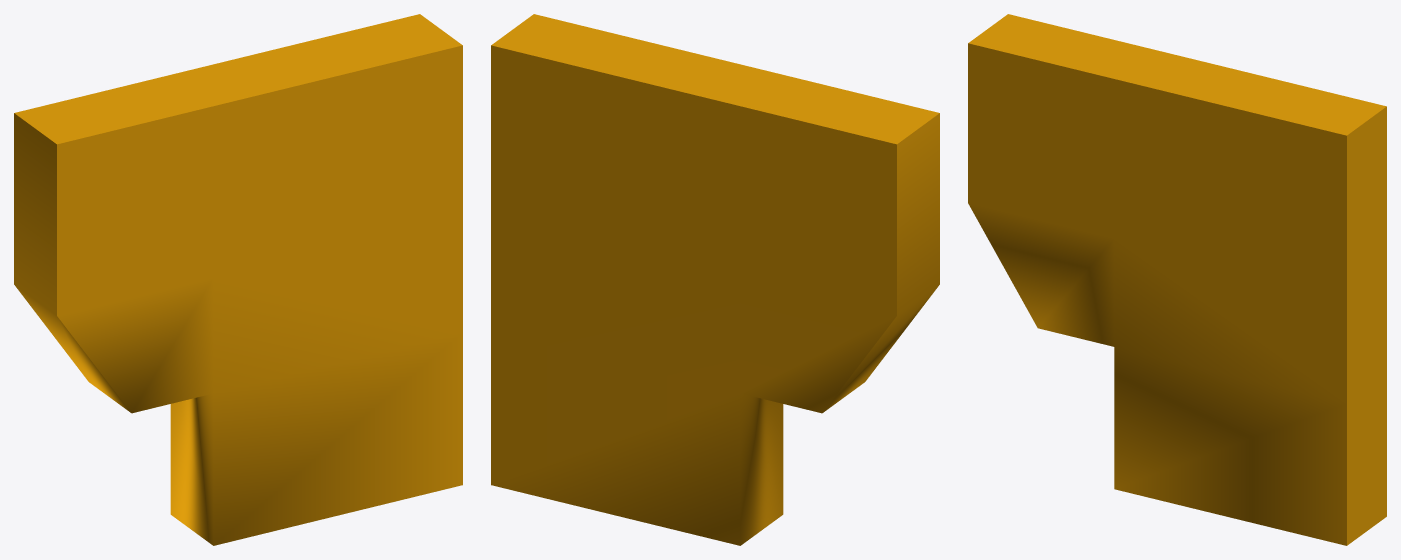
File: Frieze_S_03.fbx
3 renders of one model, left to right at view 1: azimuth 30°, elevation 25°; view 2: azimuth 150°, elevation 25°; view 3: azimuth 330°, elevation 25°, orthographic. The views are drawn at different scales.
Visible parts, largest first — view 1: Frieze_S_03; view 2: Frieze_S_03; view 3: Frieze_S_03.
Part boxes in pixels (x1,y1,x2,y2): Frieze_S_03: [14, 14, 462, 545]; Frieze_S_03: [491, 14, 939, 545]; Frieze_S_03: [968, 14, 1386, 545].
Size of the model in its own units: 73.17 by 75.74 by 13.39.
